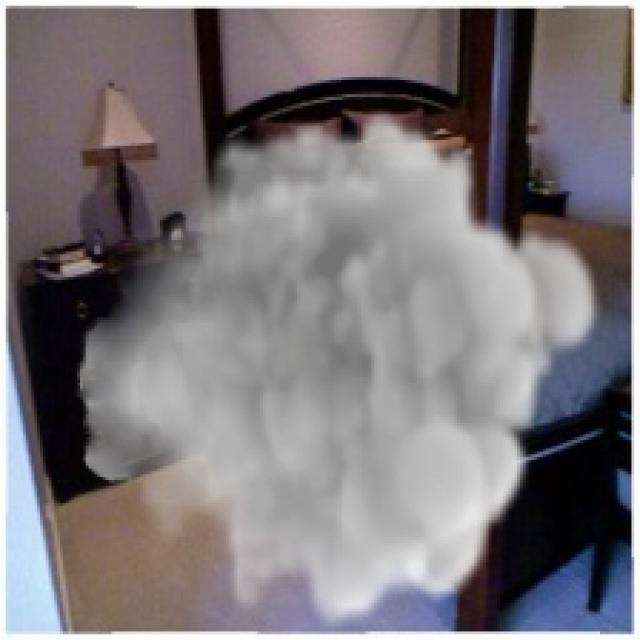Smoke: (74, 109, 606, 632)
